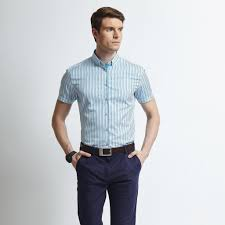F_belt: (70, 139, 141, 158)
F_dress pants: (74, 139, 140, 225)
F_shirt: (53, 52, 156, 147)
